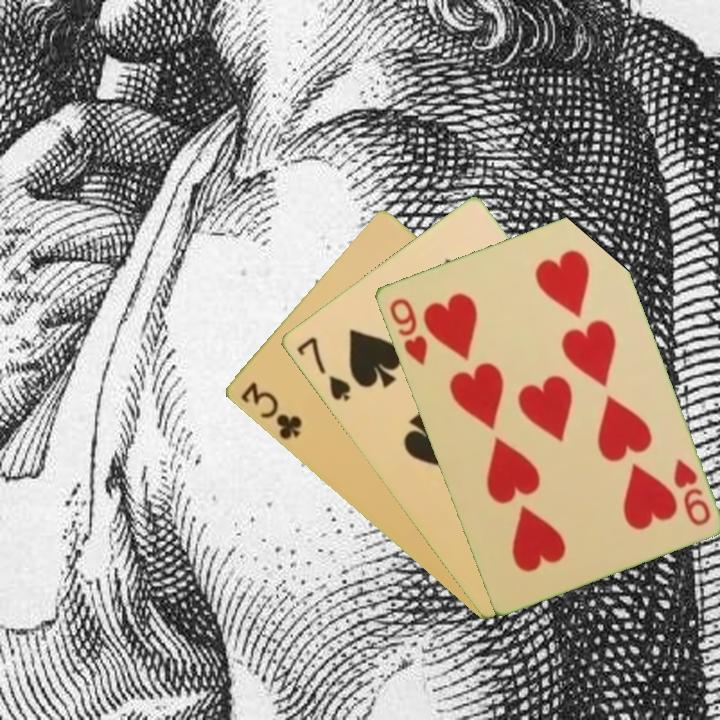3c: (236, 378, 305, 443)
7s: (292, 333, 354, 405)
9h: (385, 294, 430, 368), (669, 455, 713, 529)
